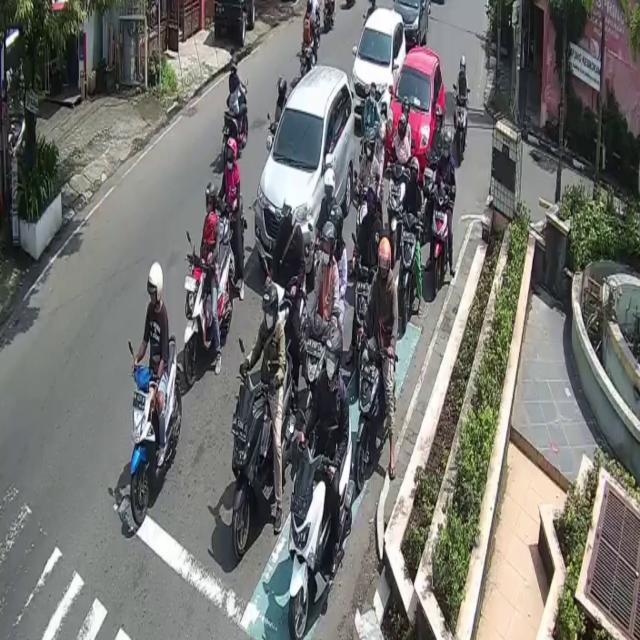bus: (289, 411, 354, 640), (233, 360, 295, 559), (130, 332, 182, 527), (181, 240, 231, 385), (359, 343, 399, 489), (397, 212, 418, 333), (430, 191, 450, 300), (221, 84, 248, 148), (454, 85, 468, 163)
motorcycle: (255, 63, 356, 273), (386, 46, 446, 180), (358, 1, 412, 118), (399, 0, 430, 52)
